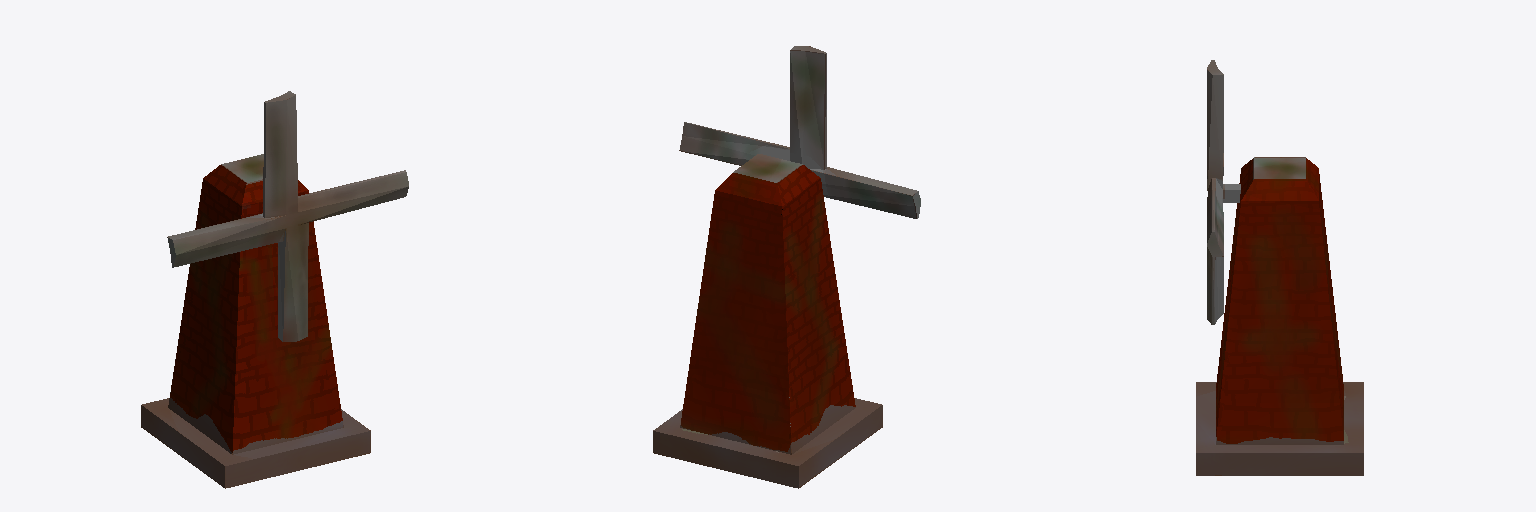
3 views of the same model, side by side, from view 1: azimuth 30°, elevation 25°; view 2: azimuth 150°, elevation 25°; view 3: azimuth 270°, elevation 25° (orthographic).
Parts seen in each view (by area): view 1: Cube_Cube.001; view 2: Cube_Cube.001; view 3: Cube_Cube.001.
Part boxes in pixels (bbox=[...]): Cube_Cube.001: bbox=[141, 91, 408, 488]; Cube_Cube.001: bbox=[653, 46, 920, 488]; Cube_Cube.001: bbox=[1196, 60, 1363, 475].
Size of the model in its own units: 6.96 by 10.49 by 4.34.
Materials: 1 (1 with a texture image).